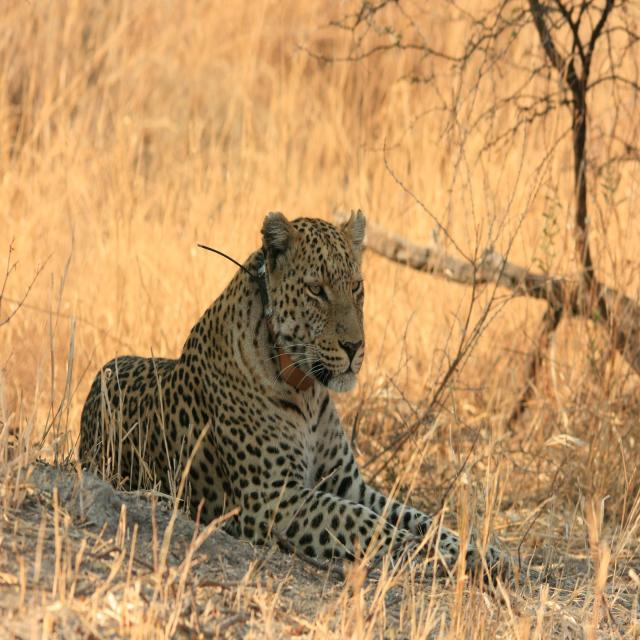Leopard: (63, 192, 558, 600)
